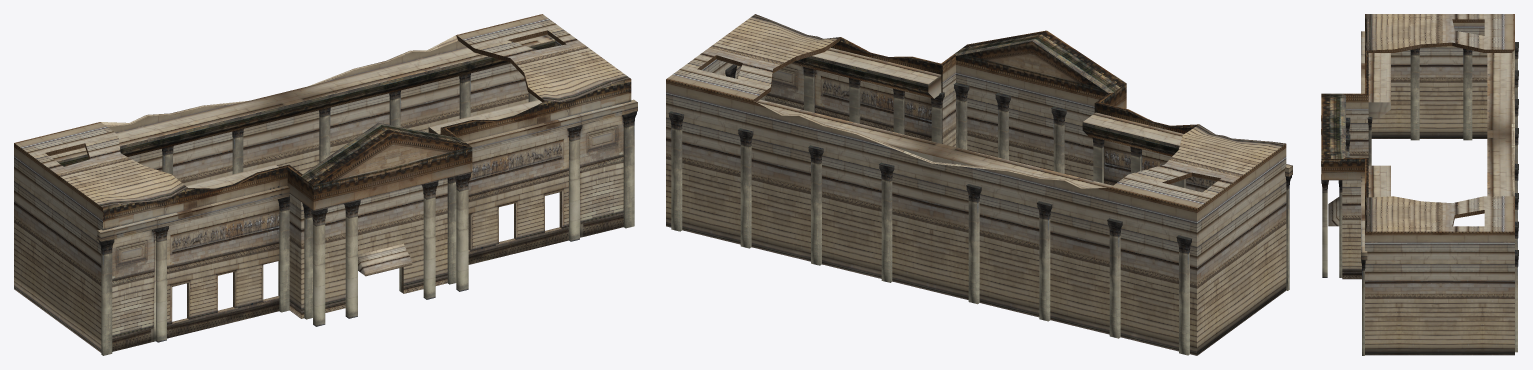
Rendered from building13.obj.
3 views of the same model, side by side, from view 1: azimuth 30°, elevation 25°; view 2: azimuth 150°, elevation 25°; view 3: azimuth 270°, elevation 25° (orthographic). The views are drawn at different scales.
Parts seen in each view (by area): view 1: building13; view 2: building13; view 3: building13.
Boxes of the visible parts, x1,y1,x2,y2 form: building13: (14,14,637,355); building13: (666,14,1292,355); building13: (1321,14,1518,355).
Bounding box in the file's own units: 1477 × 461 × 559.
1 material, 1 textured.
